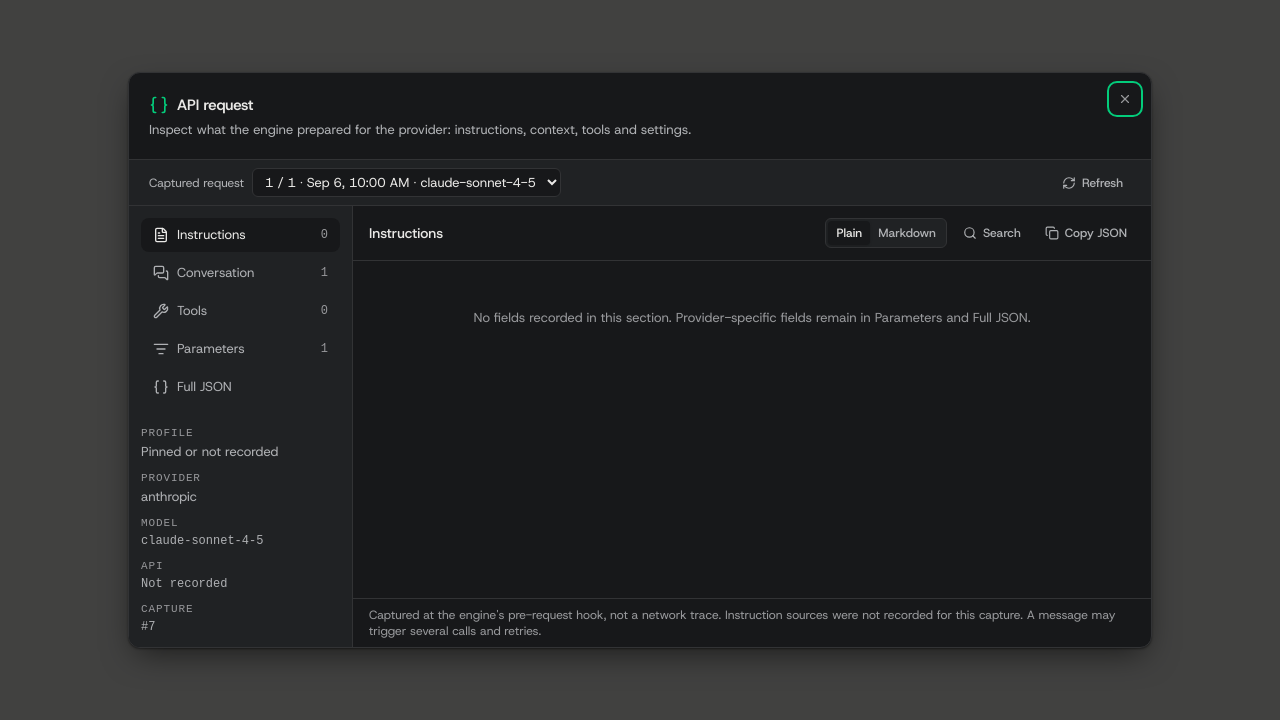
Test: still renders a body that is stored, with no released notice
Click the button "Conversation 1" at (240, 273), box [141,256,340,290]
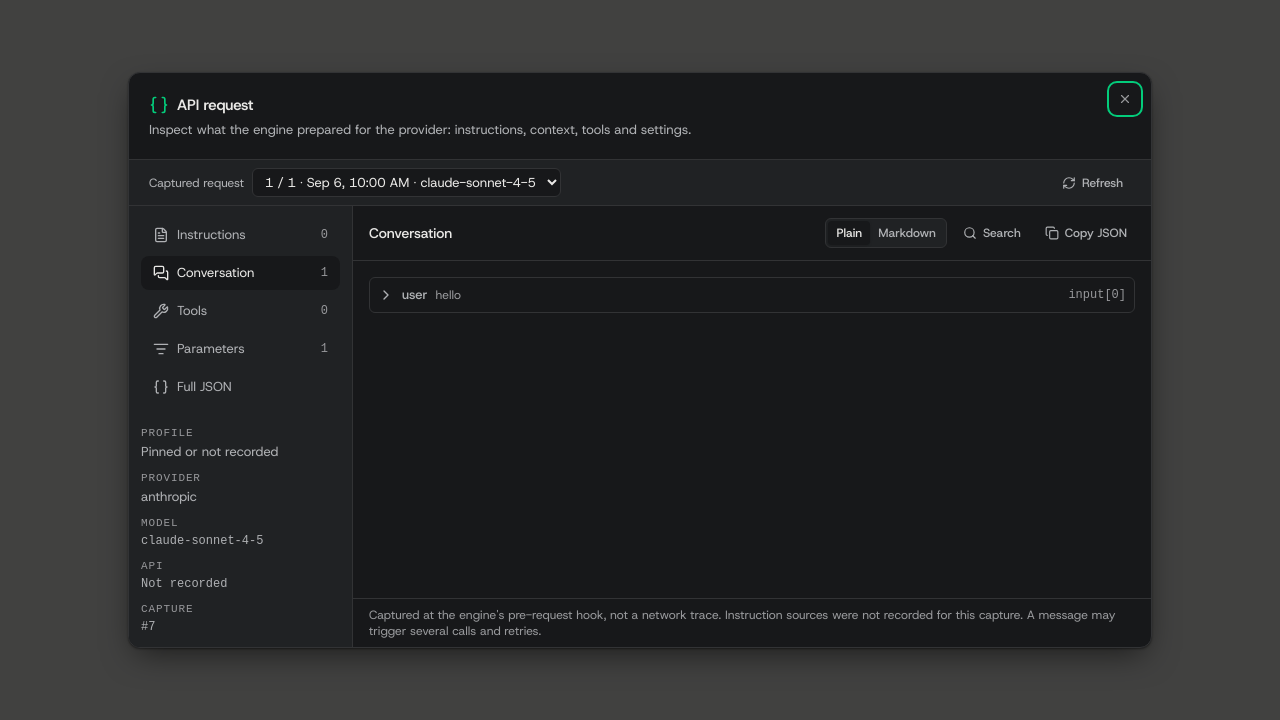
Now the text "hello" is shown, box [436,287,461,303]
